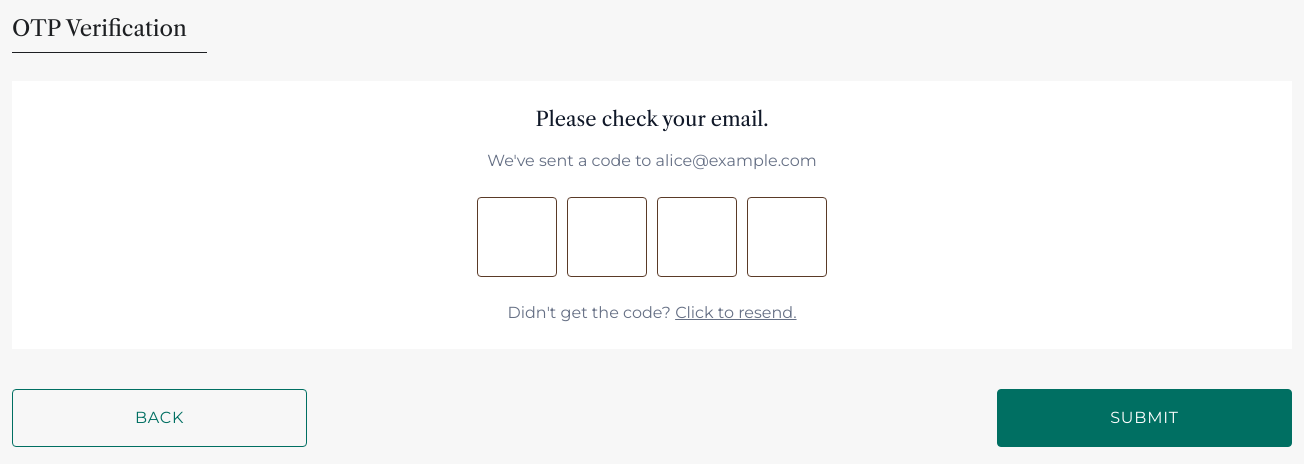
Step3_OtpVerification › shows loading state when submitting
Click the button "Submit".
click(1144, 418)  # box [997,389,1292,447]
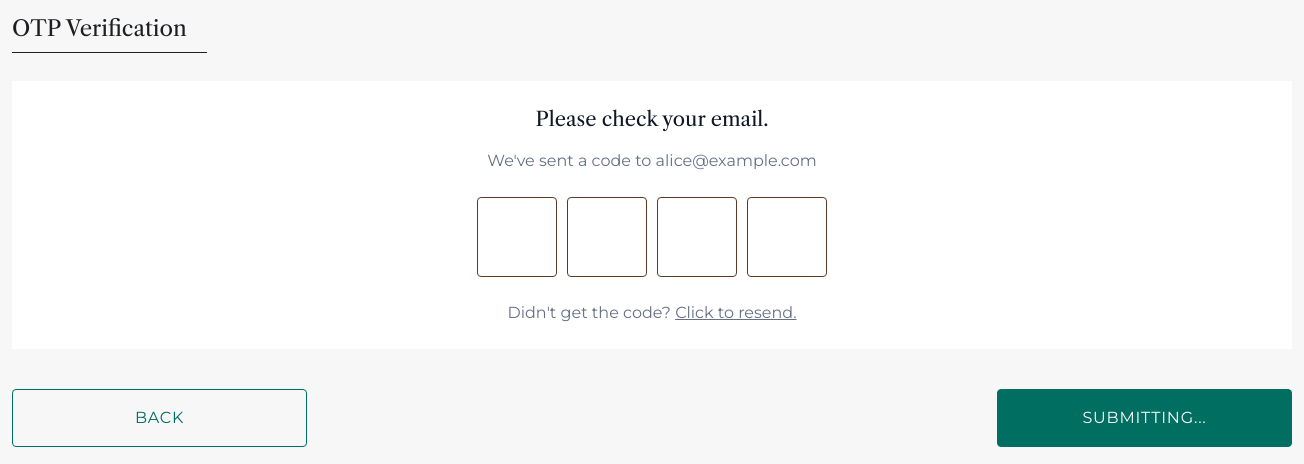
Expected: the button "Submitting..." is shown, [997,389,1292,447]
